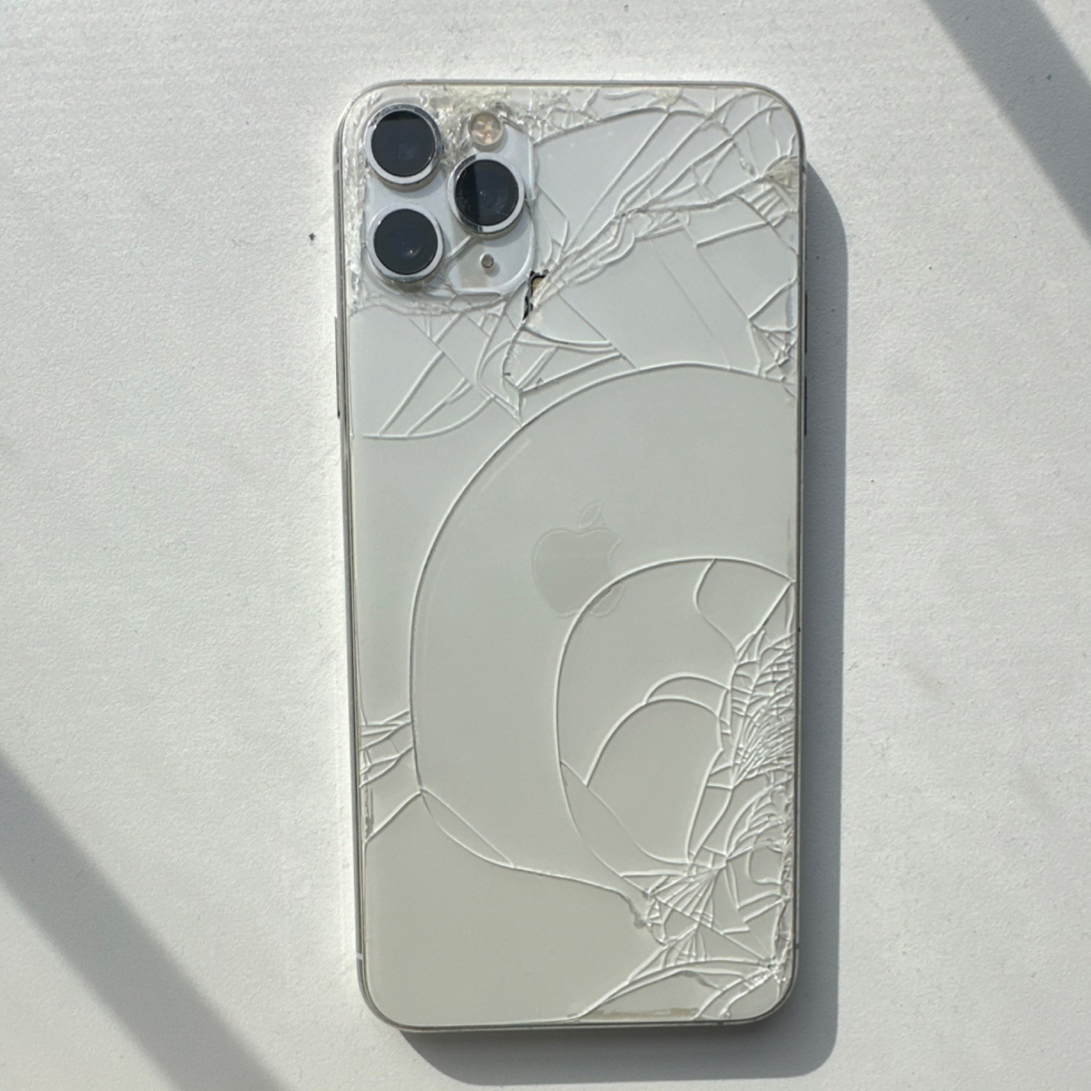crack_phone: (266, 59, 870, 1054)
